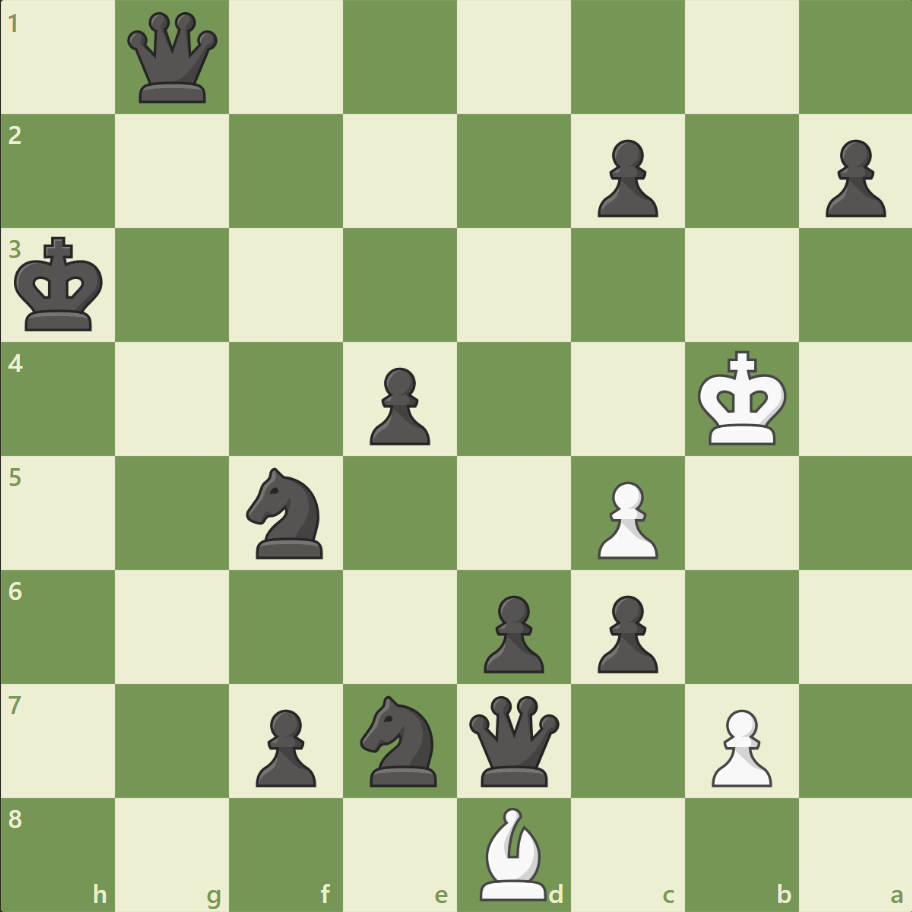B: (471, 801, 555, 904)
K: (692, 344, 792, 452)
P: (701, 700, 776, 791), (588, 473, 662, 564)
k: (11, 231, 111, 339)
n: (351, 688, 449, 791), (238, 461, 335, 564)
p: (247, 700, 322, 791), (474, 586, 549, 677), (588, 586, 662, 677), (361, 359, 435, 450), (815, 132, 889, 223), (588, 132, 662, 223)
q: (464, 690, 563, 789), (124, 9, 223, 108)
